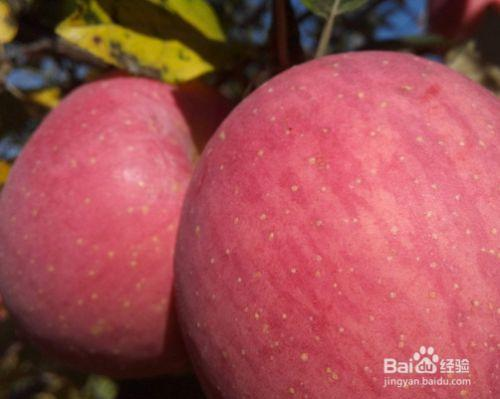apple: (171, 54, 498, 397), (2, 77, 217, 378)
